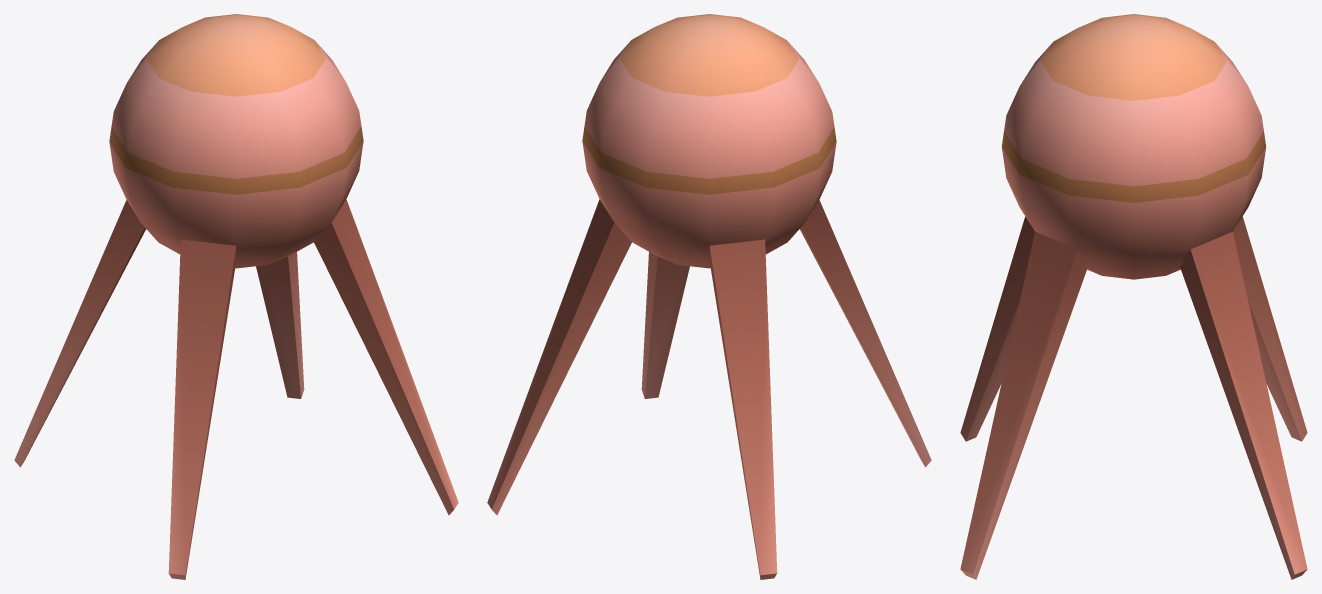
The model's file is Enemy.fbx.
3 views of the same model, side by side, from view 1: azimuth 30°, elevation 25°; view 2: azimuth 150°, elevation 25°; view 3: azimuth 270°, elevation 25° (orthographic). The views are drawn at different scales.
Visible parts, largest first — view 1: Sphere; view 2: Sphere; view 3: Sphere.
Boxes of the visible parts, x1,y1,x2,y2 form: Sphere: (14, 14, 458, 579); Sphere: (487, 14, 931, 579); Sphere: (960, 14, 1307, 579).
Size of the model in its own units: 143 by 219 by 143.
